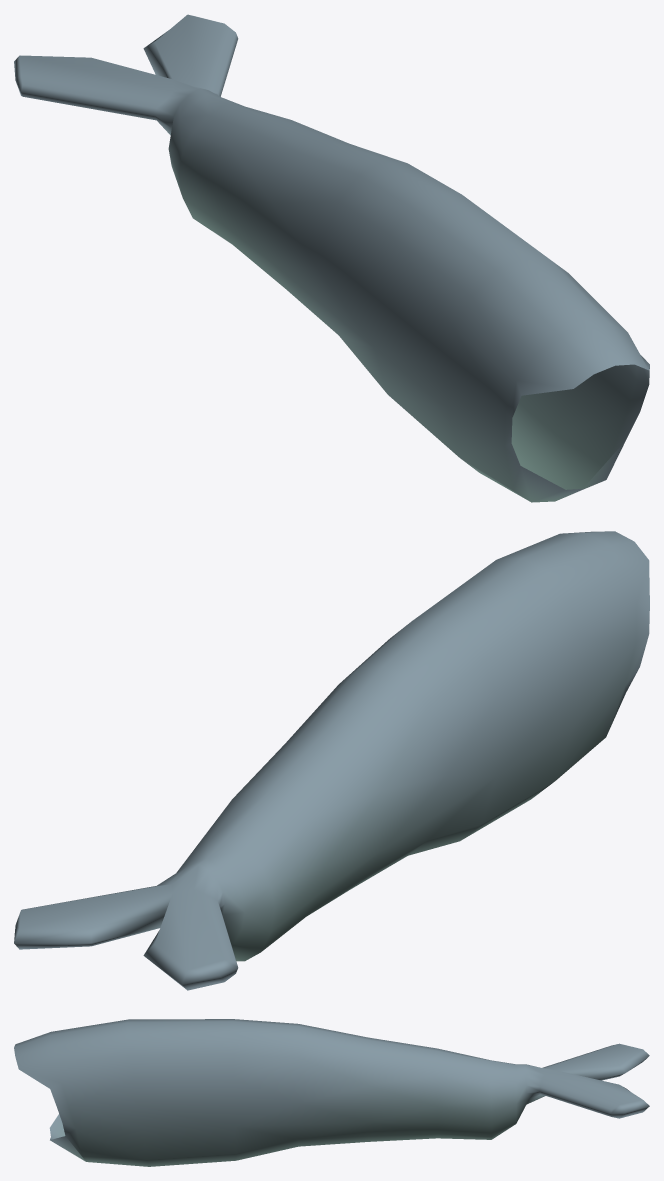
File: underwater-whales-sharks-turtles-beluga-whale_v1.glb
The picture shows the model from 3 angles, top to bottom: view 1: azimuth 30°, elevation 25°; view 2: azimuth 150°, elevation 25°; view 3: azimuth 270°, elevation 25°; orthographic projection. The views are drawn at different scales.
Parts seen in each view (by area): view 1: Beluga Whale; view 2: Beluga Whale; view 3: Beluga Whale.
Boxes of the visible parts, x1,y1,x2,y2 form: Beluga Whale: [14, 14, 649, 502]; Beluga Whale: [14, 531, 649, 990]; Beluga Whale: [14, 1019, 649, 1166].
Bounding box in the file's own units: 1.09 × 1.11 × 4.5.
